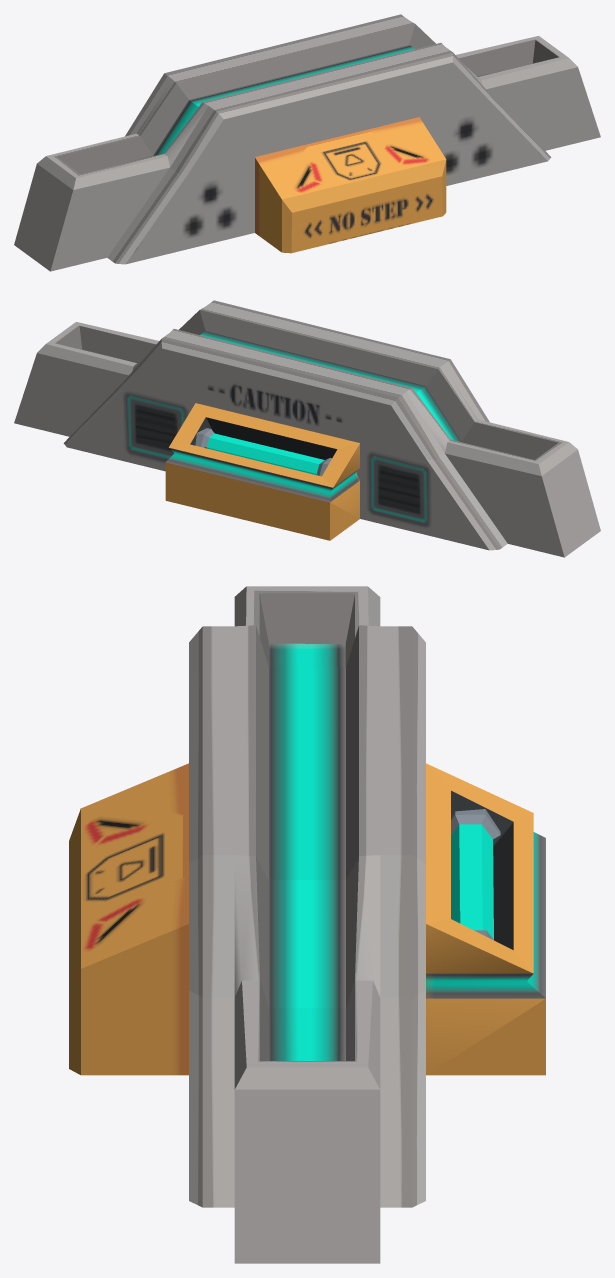
The model's file is SM_Prop_Hologram_Stand_01.fbx.
3 renders of one model, top to bottom at view 1: azimuth 30°, elevation 25°; view 2: azimuth 150°, elevation 25°; view 3: azimuth 270°, elevation 25°, orthographic. The views are drawn at different scales.
Parts seen in each view (by area): view 1: SM_Prop_Hologram_Stand_01; view 2: SM_Prop_Hologram_Stand_01; view 3: SM_Prop_Hologram_Stand_01.
Part boxes in pixels (box(x1,y1,x2,y2)): SM_Prop_Hologram_Stand_01: box(14, 14, 600, 271); SM_Prop_Hologram_Stand_01: box(14, 300, 600, 557); SM_Prop_Hologram_Stand_01: box(69, 586, 545, 1263).
Size of the model in its own units: 185 by 41.29 by 69.52.
